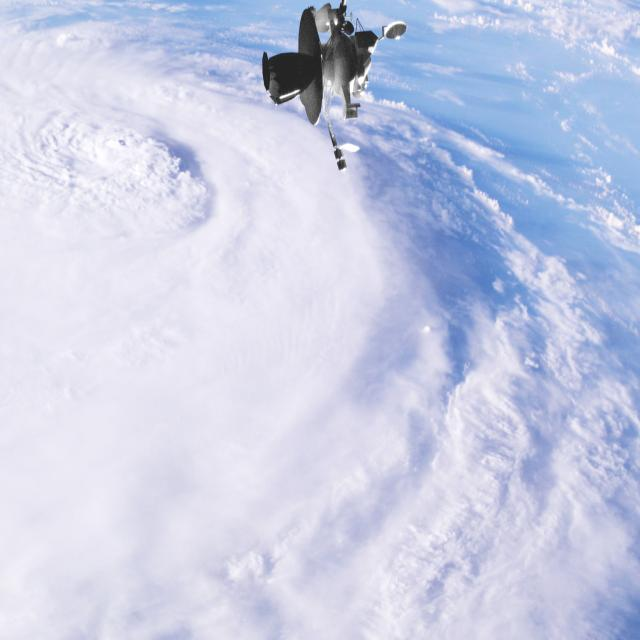satellite: (247, 0, 417, 193)
